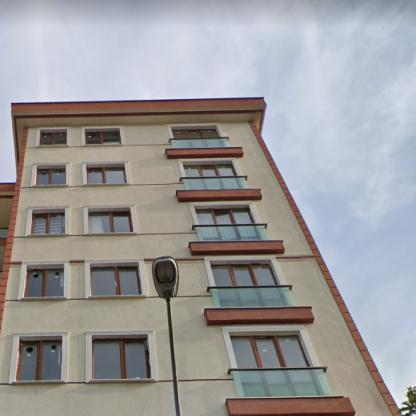window: (230, 335, 309, 367), (93, 340, 148, 378), (18, 341, 62, 381), (211, 265, 278, 286), (91, 268, 140, 295), (25, 268, 63, 296), (195, 208, 253, 224), (89, 212, 131, 232), (183, 162, 236, 176), (31, 214, 64, 233), (87, 167, 125, 183), (36, 166, 66, 184), (85, 130, 120, 144), (172, 129, 219, 137), (40, 131, 66, 144)
